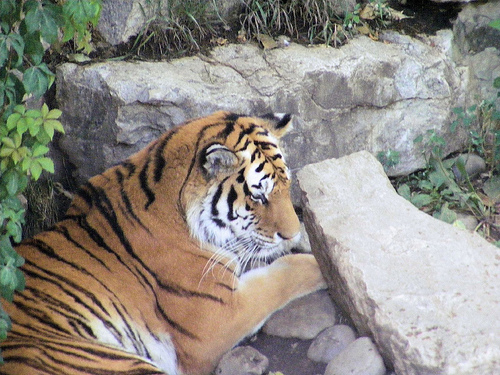Tigre: (66, 132, 302, 349)
